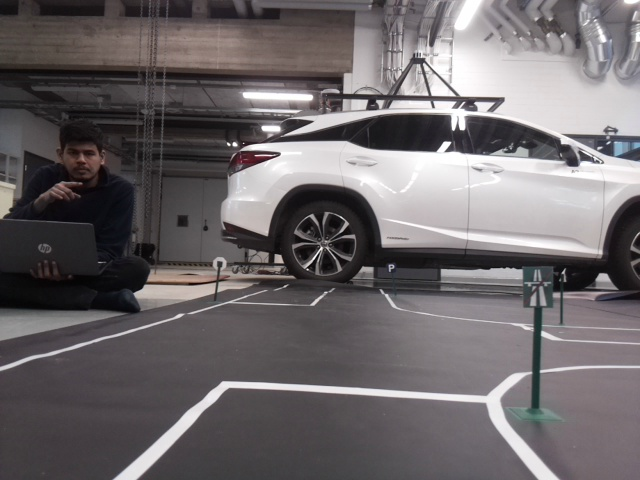HighwayExit: (523, 268, 550, 305)
